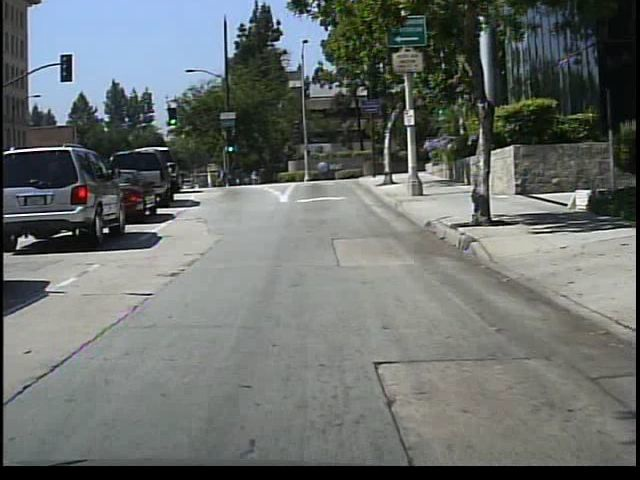person: (247, 164, 263, 189), (216, 164, 231, 189)
